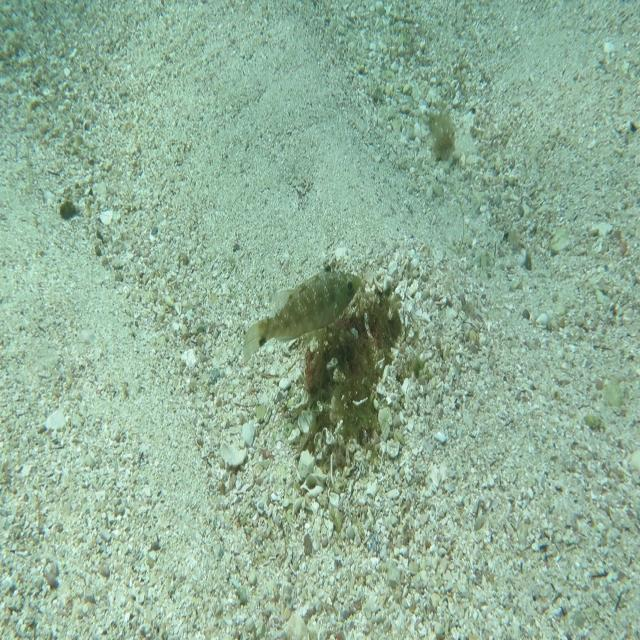FAN: (242, 256, 364, 363)
core_nest: (352, 314, 392, 352)
nest: (287, 278, 416, 491)
vegetation: (426, 108, 459, 160), (59, 198, 73, 225)
